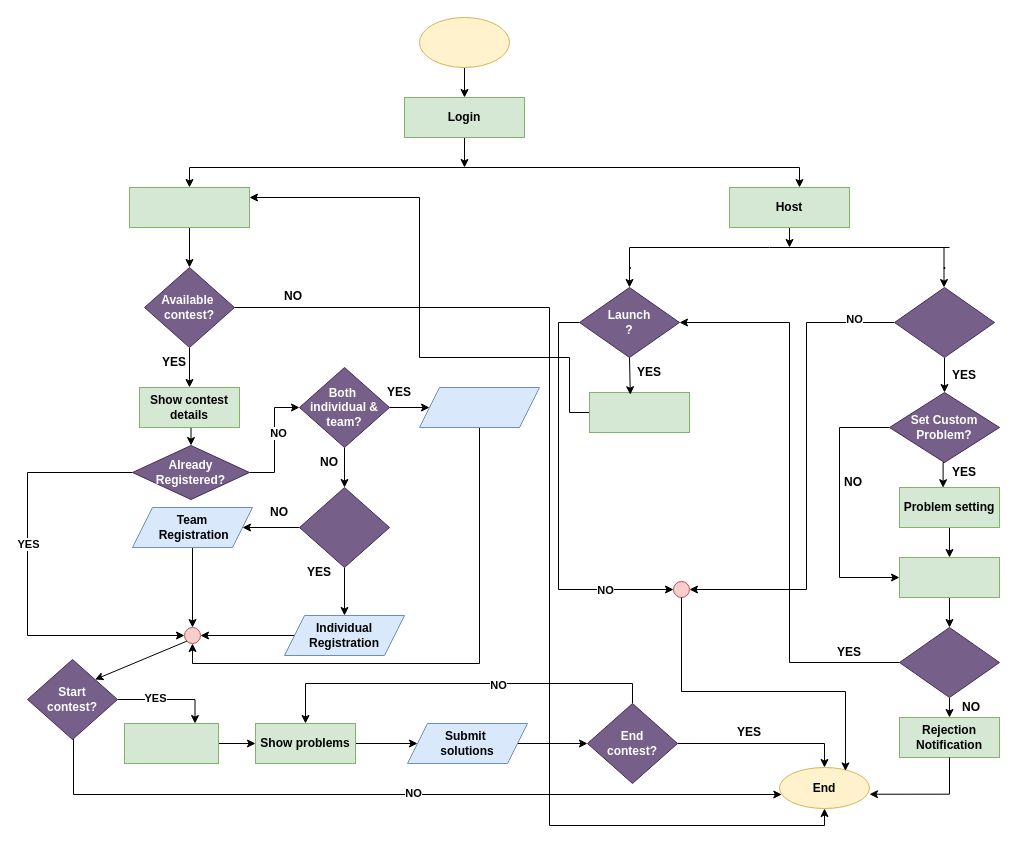
Some shapes in this 1019 by 851 pixel diagram are drawn without their labels. Here are the shapes that lost their labels. From the top down, the box of each, then its label:
(418, 16, 510, 68): Start
(128, 186, 250, 228): Participate
(894, 286, 994, 358): Create new Contest ?
(418, 386, 540, 428): Register
(588, 392, 690, 432): Launch Contest
(298, 486, 390, 568): Individual ?
(898, 556, 1000, 598): Contest details submission
(898, 626, 1000, 698): Is Approve?
(124, 722, 218, 764): Notification
